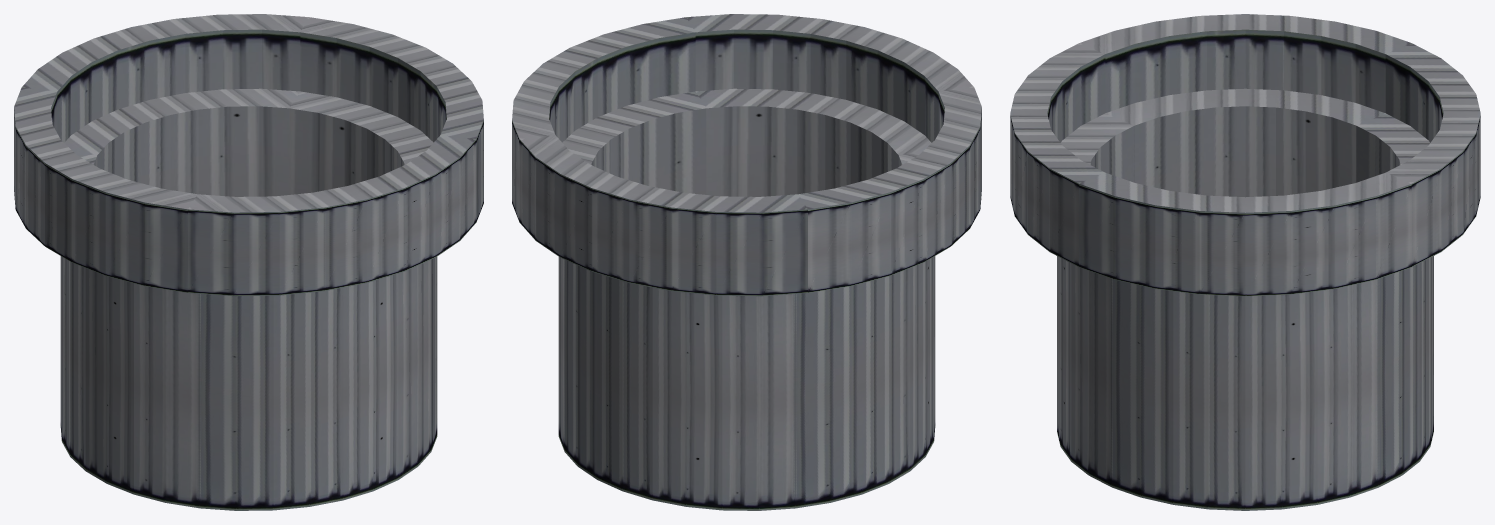
The model's file is pipe.glb.
3 views of the same model, side by side, from view 1: azimuth 30°, elevation 25°; view 2: azimuth 150°, elevation 25°; view 3: azimuth 270°, elevation 25° (orthographic).
Parts seen in each view (by area): view 1: Cylinder.001; view 2: Cylinder.001; view 3: Cylinder.001.
Part boxes in pixels (left/top/right/bottom): Cylinder.001: left=14, top=14, right=483, bottom=510; Cylinder.001: left=512, top=14, right=981, bottom=510; Cylinder.001: left=1010, top=14, right=1480, bottom=510.
Size of the model in its own units: 1.34 by 1 by 1.34.
1 material, 1 textured.
